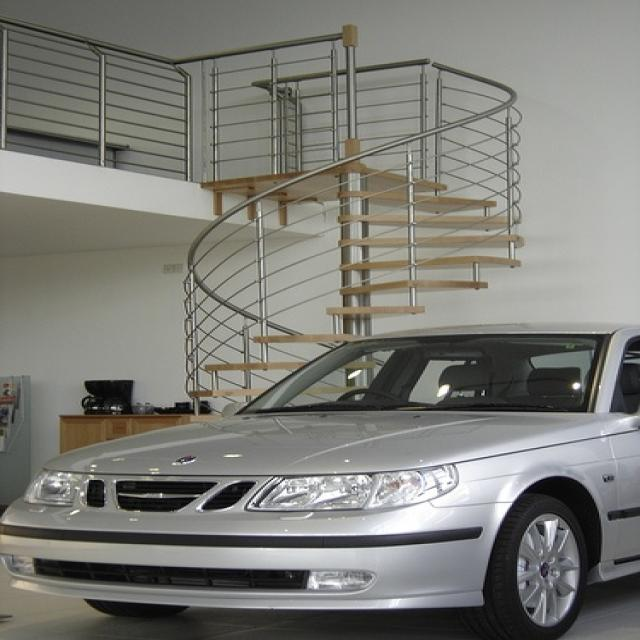car: (4, 317, 638, 639)
